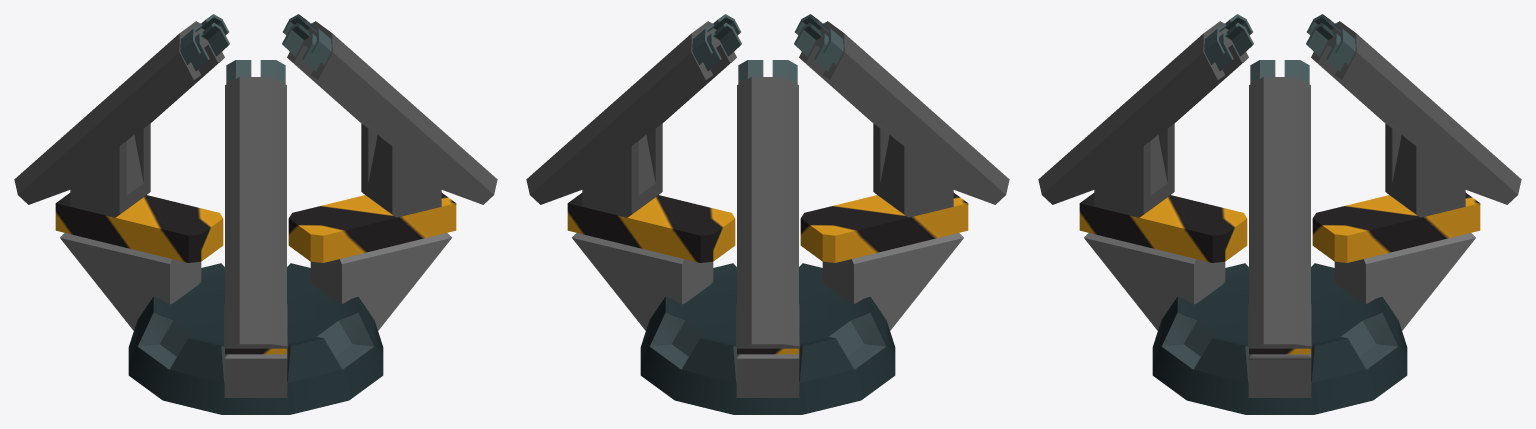
Rendered from SM_generator_rotate.fbx.
3 views of the same model, side by side, from view 1: azimuth 30°, elevation 25°; view 2: azimuth 150°, elevation 25°; view 3: azimuth 270°, elevation 25° (orthographic).
Visible parts, largest first — view 1: SM_generator_rotate; view 2: SM_generator_rotate; view 3: SM_generator_rotate.
Boxes of the visible parts, x1,y1,x2,y2 form: SM_generator_rotate: [14, 14, 497, 414]; SM_generator_rotate: [526, 14, 1009, 414]; SM_generator_rotate: [1038, 14, 1521, 414].
Size of the model in its own units: 83.46 by 70.84 by 94.89.
Materials: 1 (1 with a texture image).
